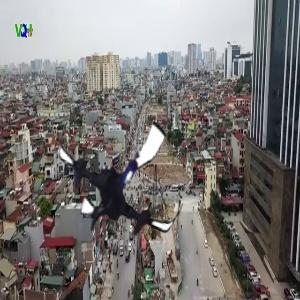drone: (48, 101, 196, 249)
